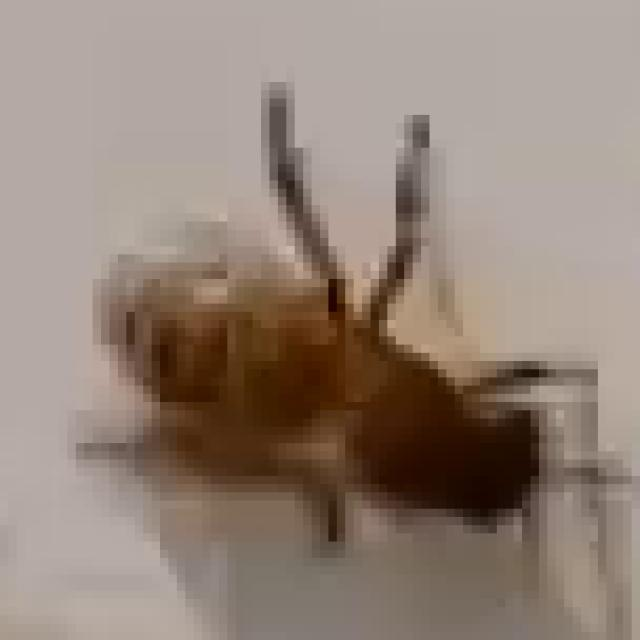honeybee: (83, 200, 588, 564)
